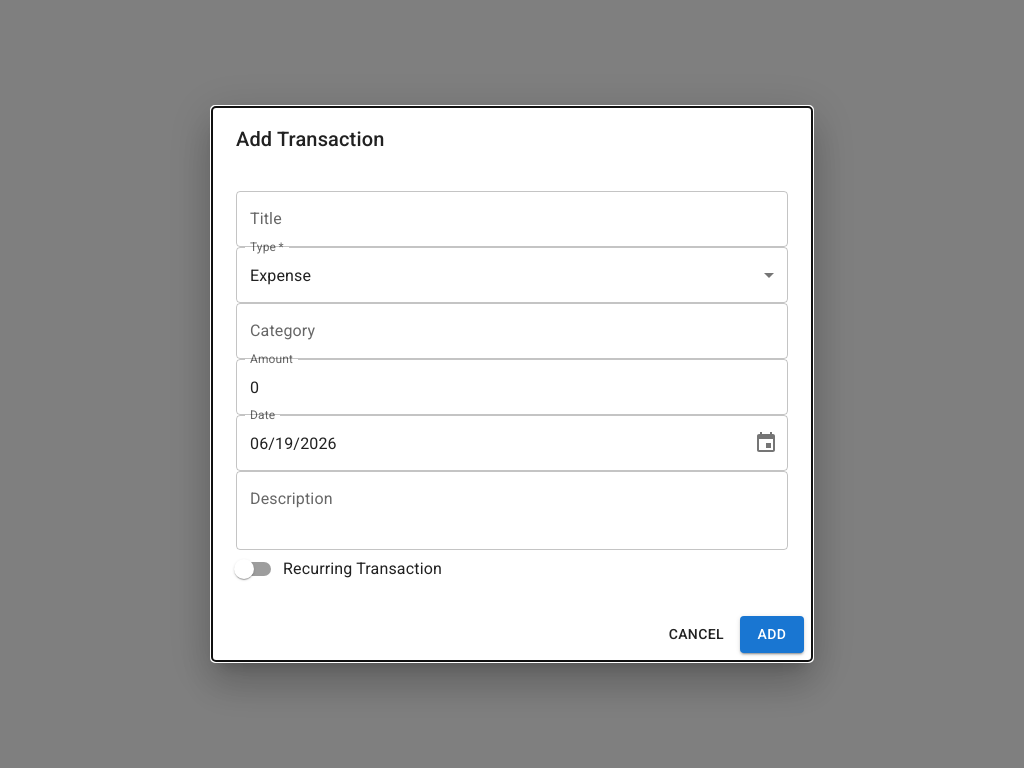
Test: TransactionForm › should show validation error for required fields
Check: the dialog is shown, box left=212, top=107, right=812, bottom=661
Click the button "Add" at (772, 635), box left=740, top=616, right=804, bottom=653
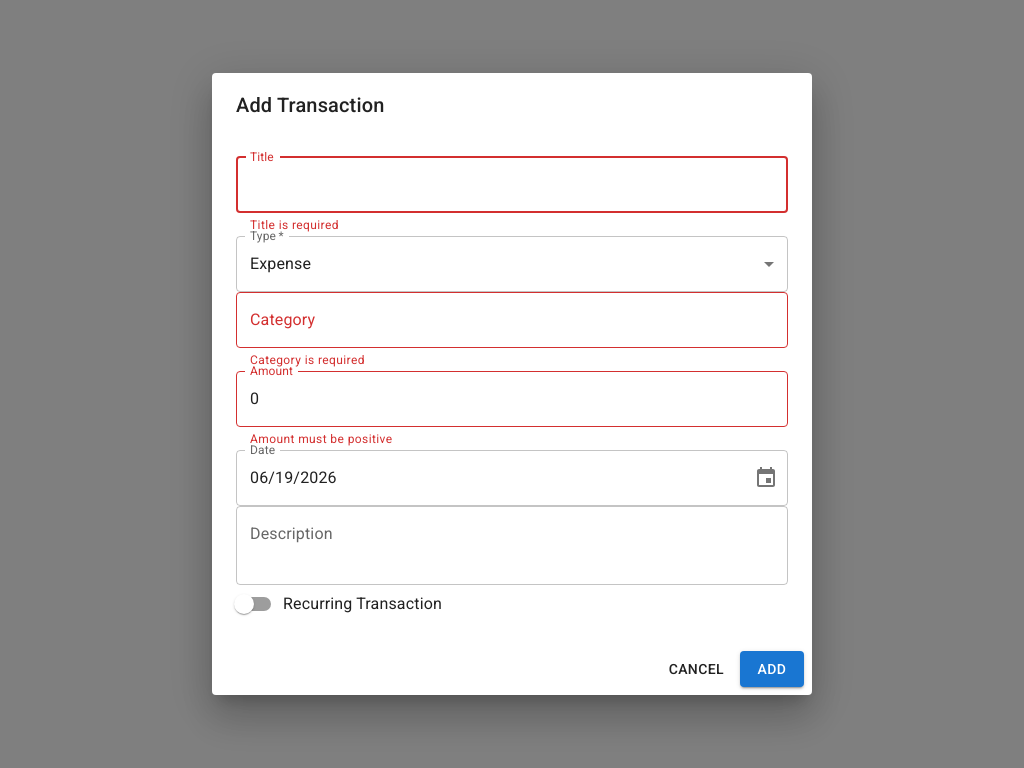
Check: the text "Title is required" is shown, box left=250, top=218, right=339, bottom=232
